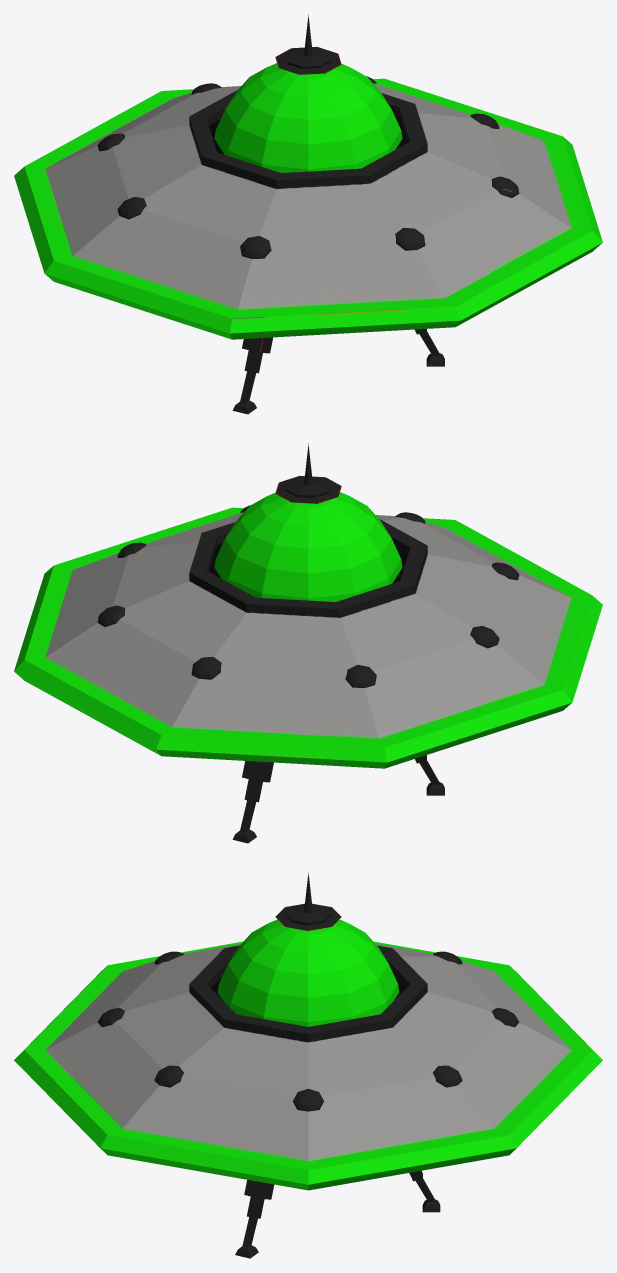
The model's file is flying sacuer.obj.
3 renders of one model, top to bottom at view 1: azimuth 30°, elevation 25°; view 2: azimuth 150°, elevation 25°; view 3: azimuth 270°, elevation 25°, orthographic. The views are drawn at different scales.
Parts seen in each view (by area): view 1: flying_Parts.001; view 2: flying_Parts.001; view 3: flying_Parts.001.
Boxes of the visible parts, bbox=[...] form: flying_Parts.001: bbox=[14, 14, 602, 414]; flying_Parts.001: bbox=[14, 443, 602, 843]; flying_Parts.001: bbox=[14, 872, 602, 1258].
Size of the model in its own units: 6.21 by 3.91 by 6.21.
Materials: 1 (1 with a texture image).
